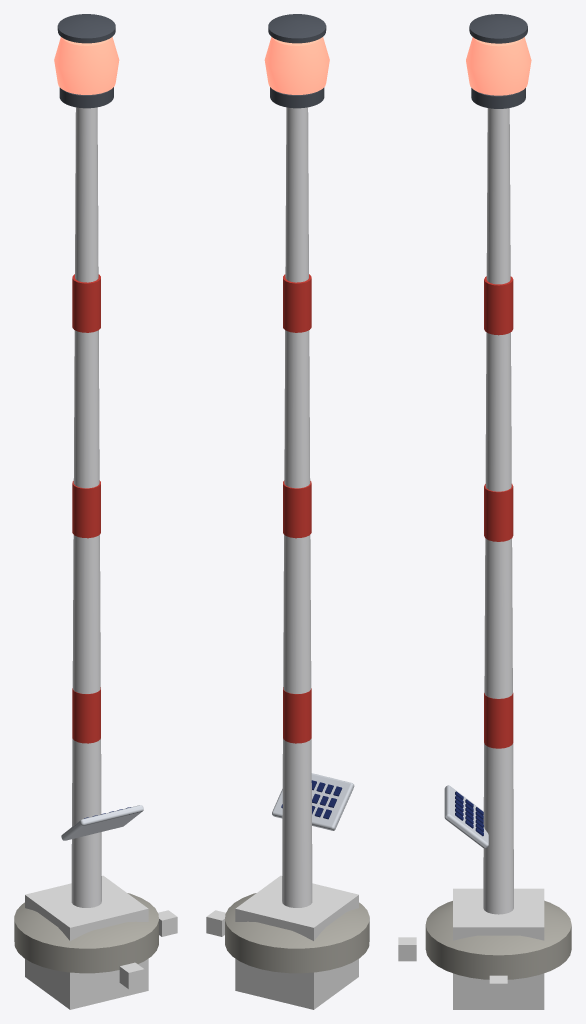
Rendered from Beacon.fbx.
3 views of the same model, side by side, from view 1: azimuth 30°, elevation 25°; view 2: azimuth 150°, elevation 25°; view 3: azimuth 270°, elevation 25° (orthographic).
Parts seen in each view (by area): view 1: Body__White, Origin__Pivot, Body__Concrete, Body__Red, Lamp__NeonRed, Body__MetalDark, Body__Chrome, Origin__AxisZ, Origin__AxisX; view 2: Body__White, Origin__Pivot, Body__Concrete, Body__Red, Lamp__NeonRed, Body__MetalDark, Body__Chrome, Body__SolarCell, Origin__AxisX; view 3: Body__White, Body__Concrete, Origin__Pivot, Body__Red, Lamp__NeonRed, Body__MetalDark, Body__Chrome, Body__SolarCell, Origin__AxisZ, Origin__AxisX.
Boxes of the visible parts, x1=… form: Body__White: x1=71, y1=107, x2=101, y2=907; Origin__Pivot: x1=25, y1=875, x2=148, y2=1009; Body__Concrete: x1=14, y1=893, x2=158, y2=973; Body__Red: x1=72, y1=274, x2=100, y2=743; Lamp__NeonRed: x1=54, y1=37, x2=119, y2=94; Body__MetalDark: x1=57, y1=14, x2=115, y2=108; Body__Chrome: x1=61, y1=805, x2=143, y2=840; Origin__AxisZ: x1=119, y1=962, x2=144, y2=989; Origin__AxisX: x1=158, y1=910, x2=177, y2=936; Body__White: x1=282, y1=107, x2=312, y2=907; Origin__Pivot: x1=235, y1=875, x2=358, y2=1009; Body__Concrete: x1=225, y1=893, x2=369, y2=973; Body__Red: x1=283, y1=274, x2=311, y2=743; Lamp__NeonRed: x1=264, y1=37, x2=329, y2=94; Body__MetalDark: x1=268, y1=14, x2=326, y2=108; Body__Chrome: x1=272, y1=773, x2=354, y2=830; Body__SolarCell: x1=281, y1=780, x2=342, y2=819; Origin__AxisX: x1=206, y1=910, x2=225, y2=936; Body__White: x1=483, y1=108, x2=513, y2=914; Body__Concrete: x1=425, y1=900, x2=571, y2=979; Origin__Pivot: x1=453, y1=888, x2=544, y2=1009; Body__Red: x1=484, y1=276, x2=513, y2=748; Lamp__NeonRed: x1=466, y1=37, x2=531, y2=95; Body__MetalDark: x1=469, y1=14, x2=527, y2=108; Body__Chrome: x1=444, y1=785, x2=488, y2=848; Body__SolarCell: x1=455, y1=791, x2=483, y2=836; Origin__AxisZ: x1=398, y1=937, x2=416, y2=961; Origin__AxisX: x1=489, y1=975, x2=507, y2=999.
Size of the model in its own units: 1.9 by 11.72 by 1.9.
